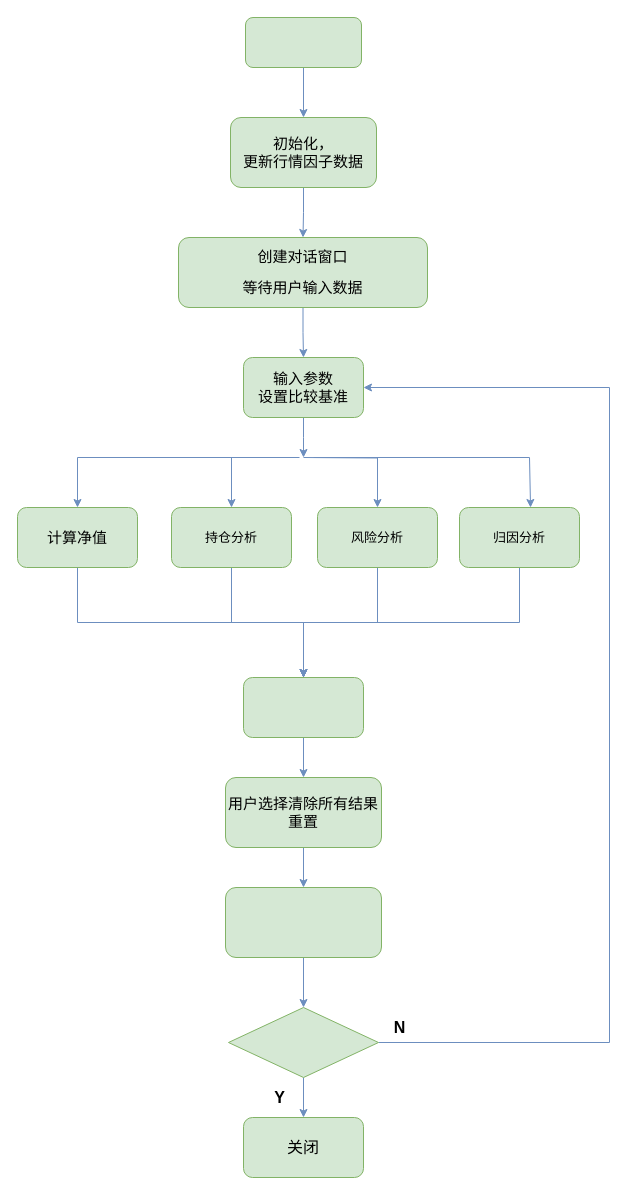
The diagram is 635 pixels wide and 1195 high, and some of its shapes have lost their labels. Each missing label, with the box of its shape:
图表显示: (242, 676, 364, 738)
开始: (244, 16, 362, 68)
返回参数输入 等待用户输入数据: (224, 886, 382, 958)
退出软件: (228, 1006, 378, 1078)
